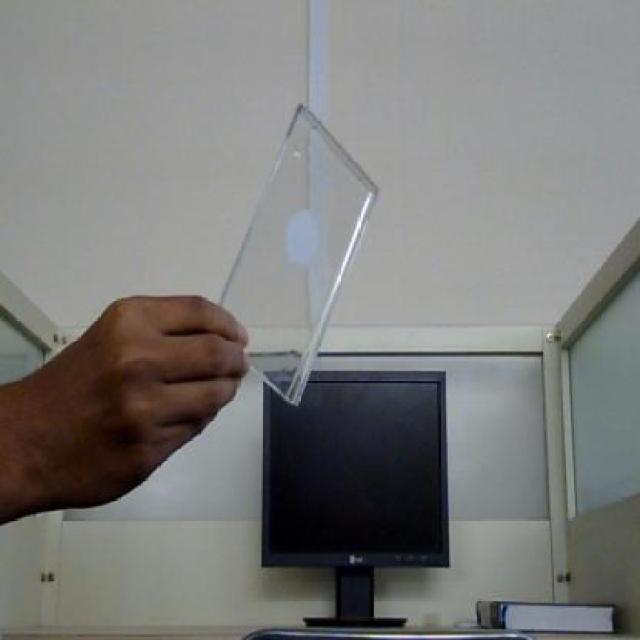Plastic: (250, 102, 381, 409)
